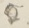microplastic: (4, 2, 24, 25)
